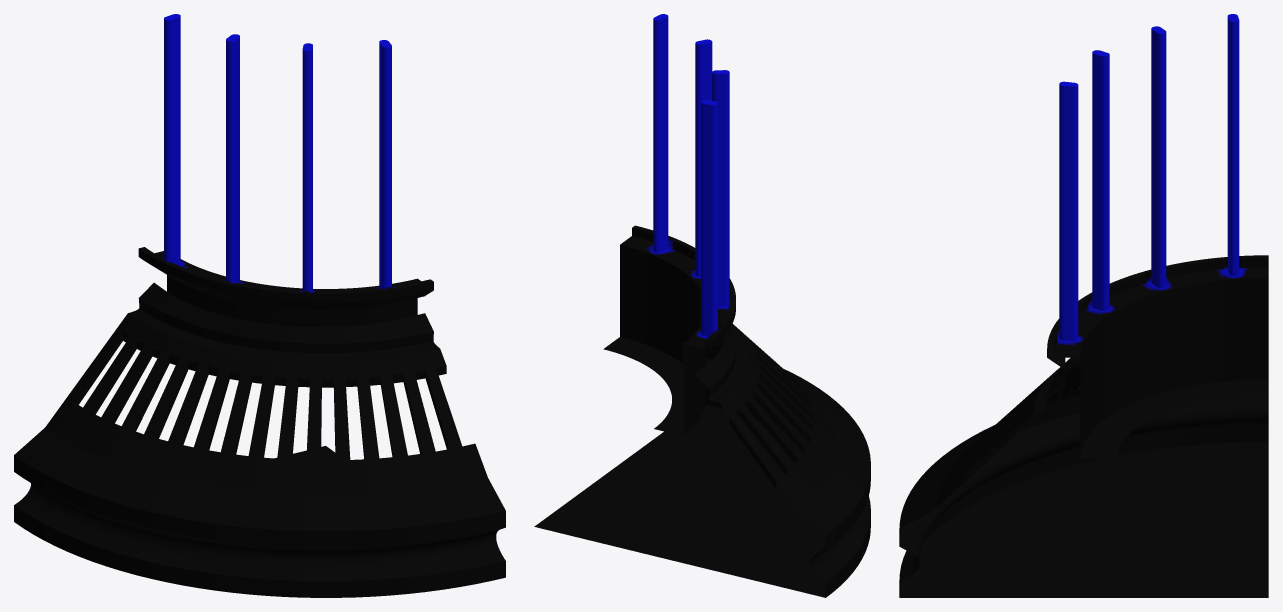
File: powersourcechangeAndyopaque.fbx
3 renders of one model, left to right at view 1: azimuth 30°, elevation 25°; view 2: azimuth 150°, elevation 25°; view 3: azimuth 270°, elevation 25°, orthographic. The views are drawn at different scales.
Parts seen in each view (by area): view 1: Poweropaque; view 2: Poweropaque; view 3: Poweropaque.
Boxes of the visible parts, left/top/right/bottom form: Poweropaque: left=14, top=14, right=505, bottom=597; Poweropaque: left=534, top=14, right=870, bottom=597; Poweropaque: left=899, top=14, right=1268, bottom=597.
Size of the model in its own units: 1987 by 2938 by 1987.
